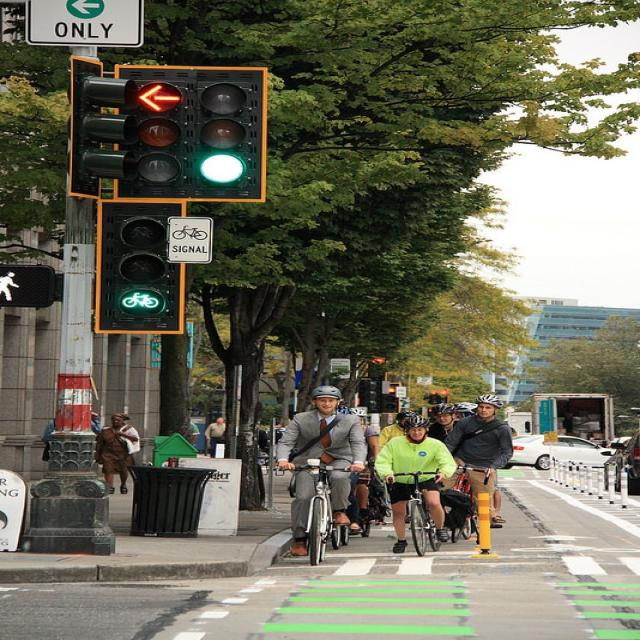body: (273, 383, 369, 560), (373, 412, 460, 558), (441, 392, 515, 509), (91, 410, 143, 496), (346, 406, 381, 520), (350, 472, 391, 539), (376, 411, 419, 452), (426, 402, 462, 444), (41, 408, 62, 462), (202, 416, 228, 459), (490, 471, 508, 529), (585, 434, 621, 451), (264, 420, 285, 446), (249, 422, 266, 452), (186, 417, 200, 447), (89, 410, 103, 434), (454, 402, 478, 416)
